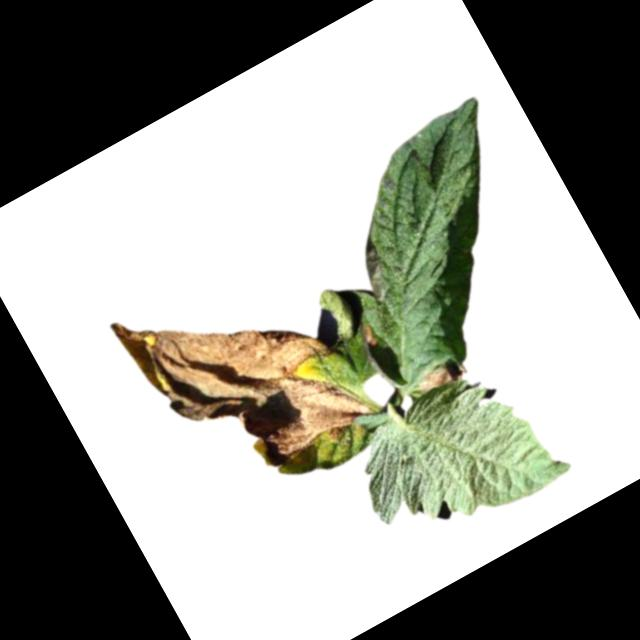Late_blight: (108, 228, 384, 512), (346, 233, 403, 305), (410, 351, 472, 401), (354, 318, 385, 351)
healthy: (335, 346, 575, 565)
